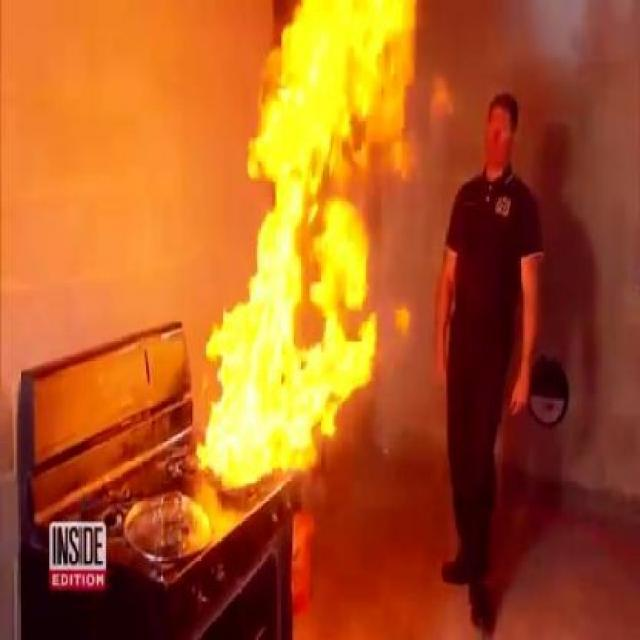fire: (228, 9, 380, 478)
